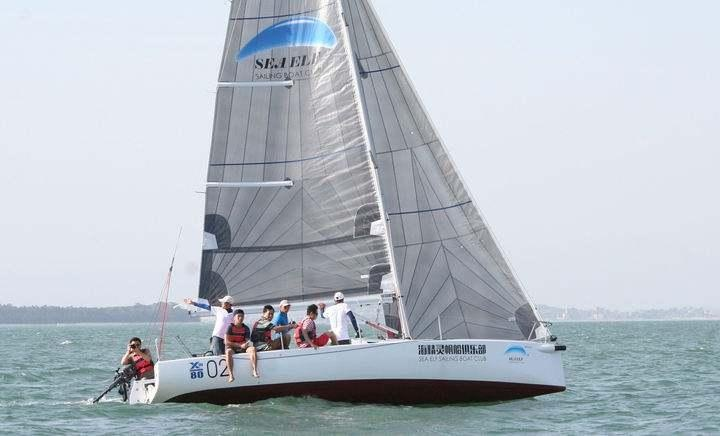fanchuan: (111, 1, 570, 406)
person: (178, 294, 234, 359), (217, 304, 260, 383), (314, 290, 370, 347), (290, 303, 342, 351), (248, 305, 295, 354), (117, 337, 159, 390), (269, 296, 298, 344)
